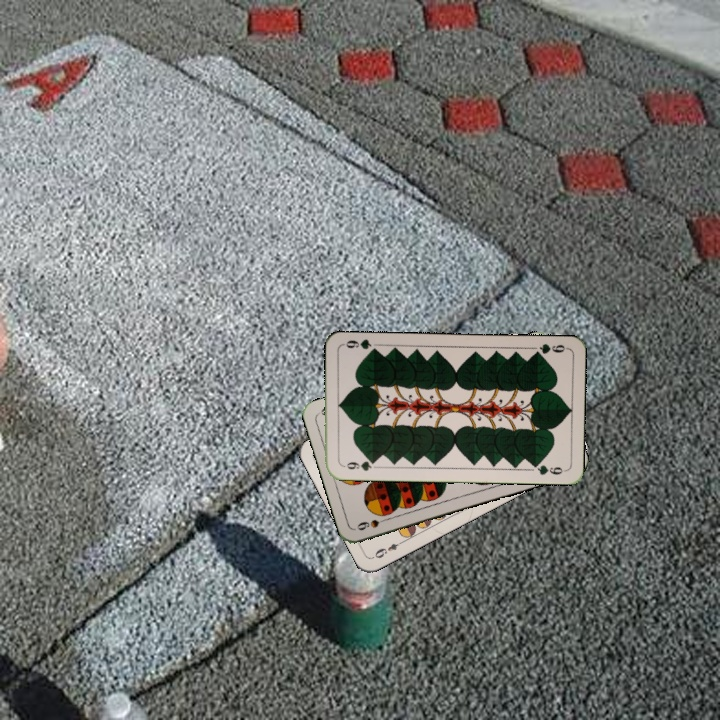E9: (369, 537, 407, 561)
G9: (529, 339, 569, 358), (338, 456, 379, 473)
S9: (353, 513, 392, 533)
